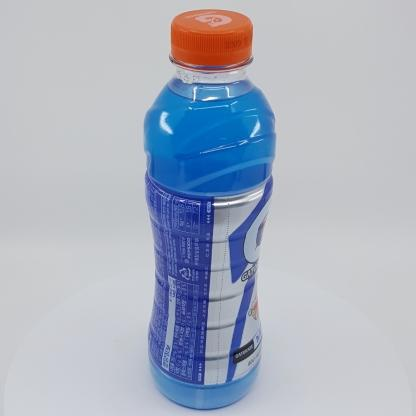----------600ML: (144, 9, 276, 409)
